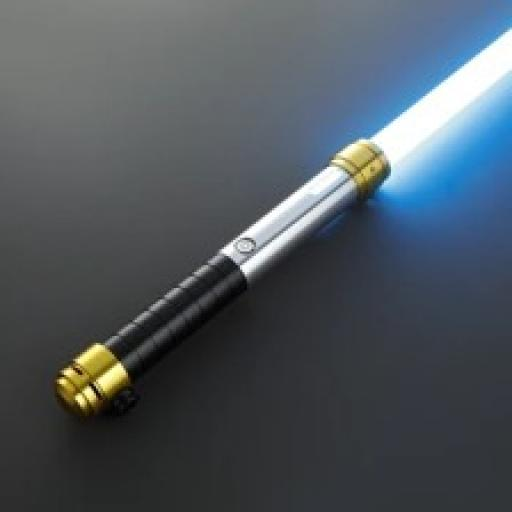lightsaber: (52, 18, 512, 420)
